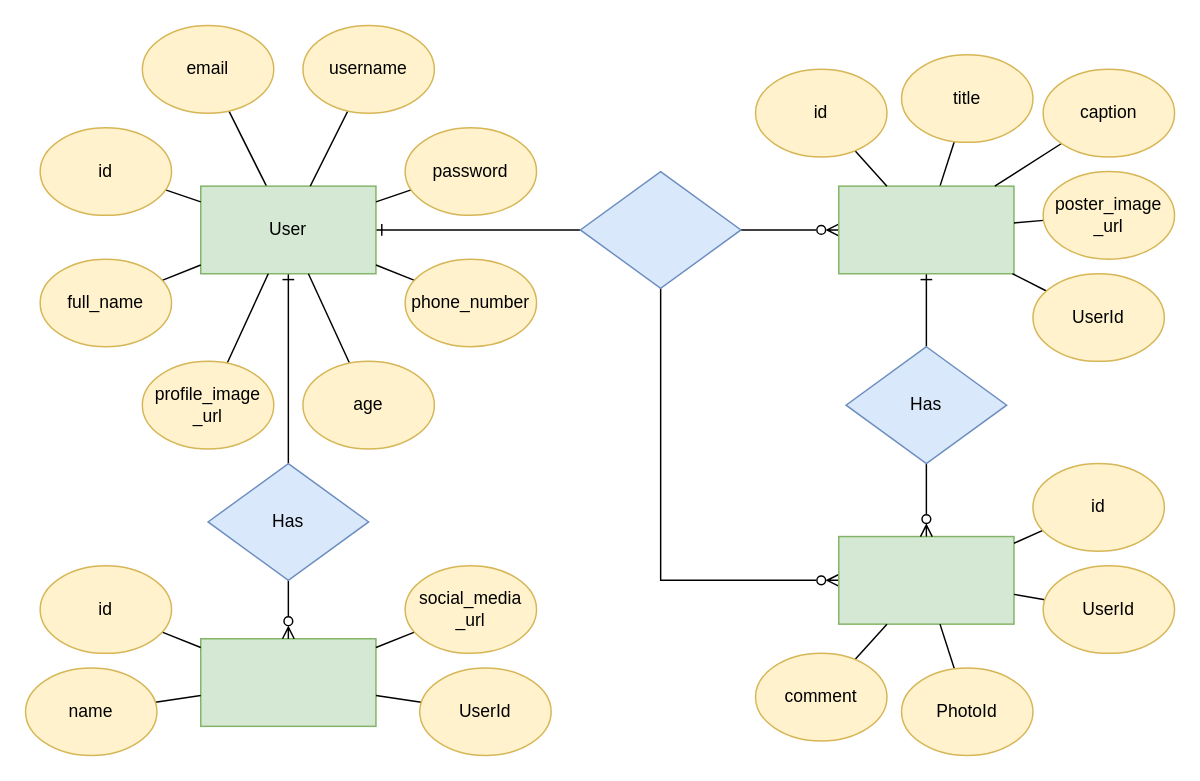
The diagram is 1200 pixels wide and 781 high, and some of its shapes have lost their labels. Each missing label, with the centre of its shape:
"Comments" belongs at point (925, 579).
"Photos" belongs at point (925, 229).
"Posts" belongs at point (660, 229).
"Social Media" belongs at point (287, 681).
